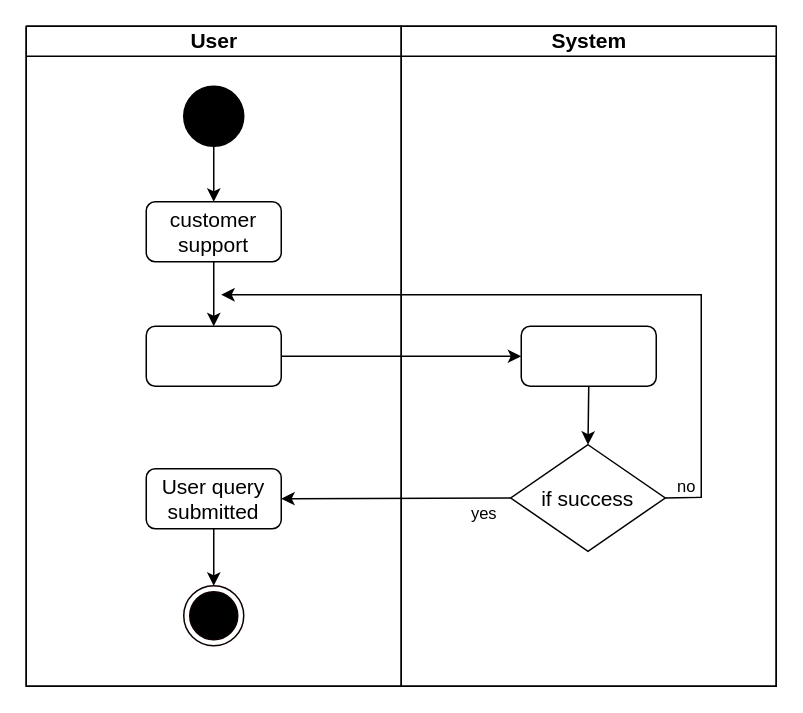
This 803x713 diagram has some shape labels left out. The centre of each missing label's shape, as x and y in pixels:
Input query: the point at 213,355
validation: the point at 588,355
